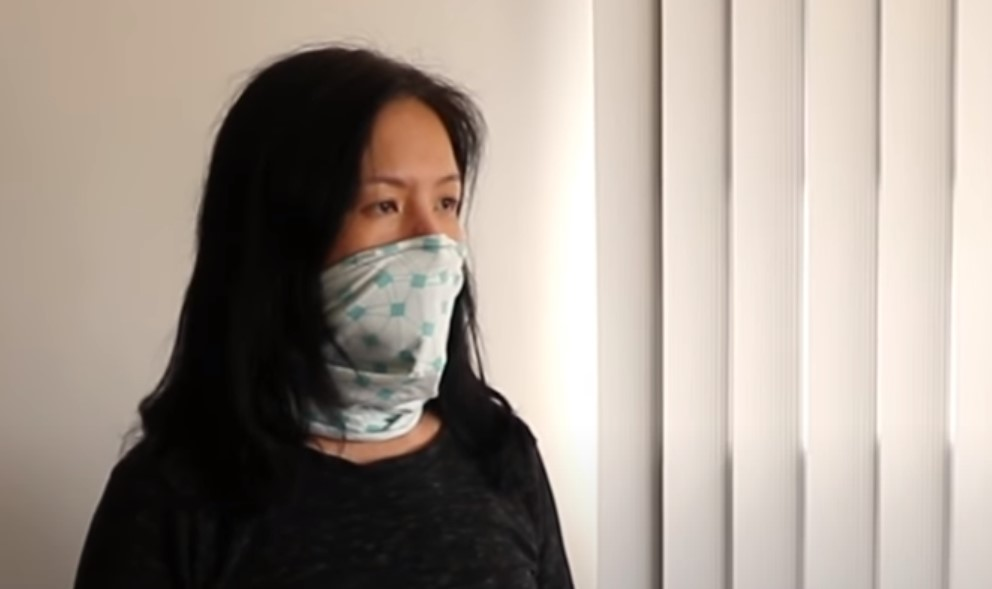face_with_mask: (222, 58, 476, 398)
